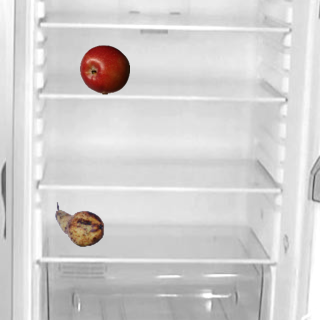Apple Braeburn: (79, 44, 129, 94)
Pear Abate: (54, 199, 104, 249)
